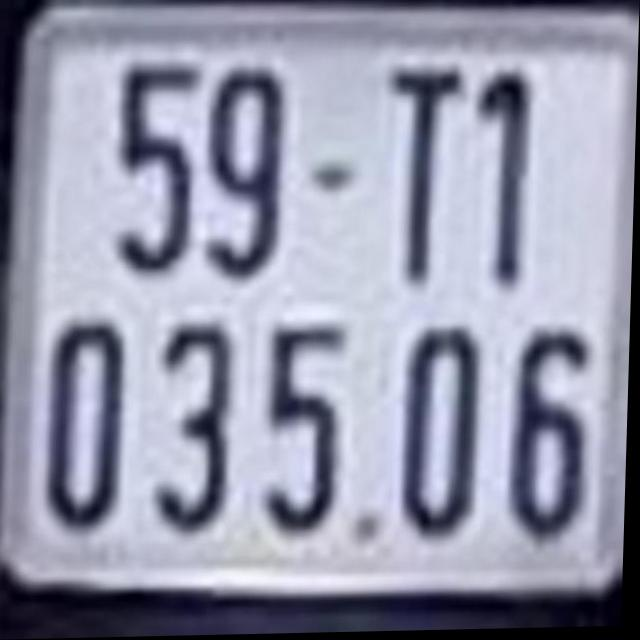0: (44, 322, 139, 533), (408, 330, 486, 537)
1: (473, 76, 539, 292)
3: (159, 323, 237, 529)
5: (115, 58, 201, 275), (263, 323, 345, 539)
6: (511, 332, 601, 539)
9: (206, 63, 287, 282)
T: (385, 66, 468, 286)
